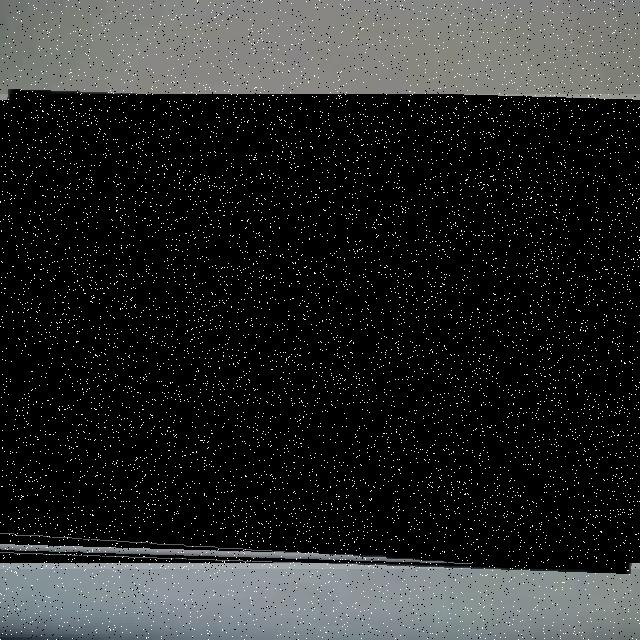dua puluh ribu rupiah: (0, 94, 640, 569)
